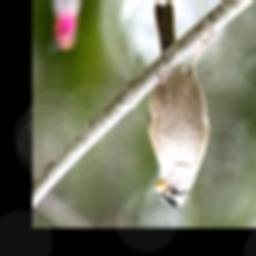Sparrow: (147, 2, 214, 208)
